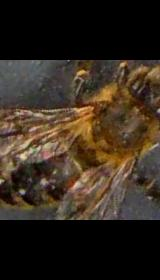varroa_mite: (66, 171, 91, 197)
